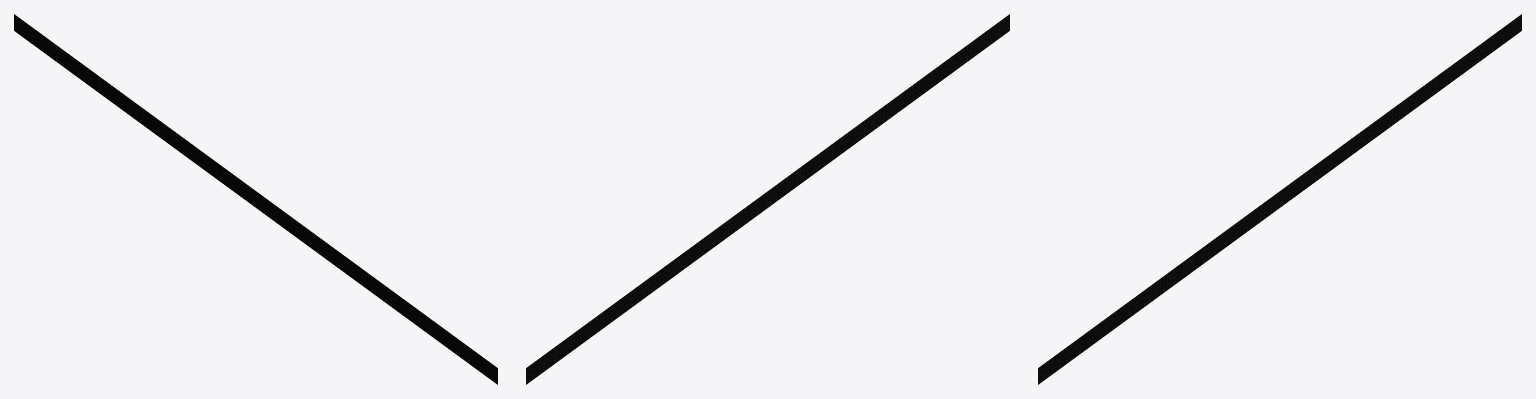
Rendered from pattern2.glb.
3 renders of one model, left to right at view 1: azimuth 30°, elevation 25°; view 2: azimuth 150°, elevation 25°; view 3: azimuth 330°, elevation 25°, orthographic.
Parts seen in each view (by area): view 1: Plane; view 2: Plane; view 3: Plane.
Boxes of the visible parts, box(x1,y1,x2,y2) form: Plane: box(14, 14, 497, 384); Plane: box(526, 14, 1009, 384); Plane: box(1038, 14, 1521, 384).
Size of the model in its own units: 2.67e-17 by 0.1205 by 6.26.
1 material, 1 textured.
